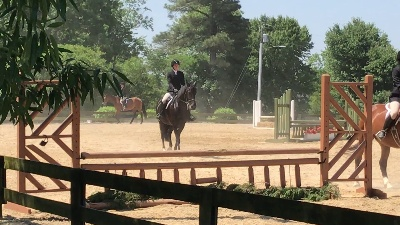jetta: (154, 80, 200, 152)
